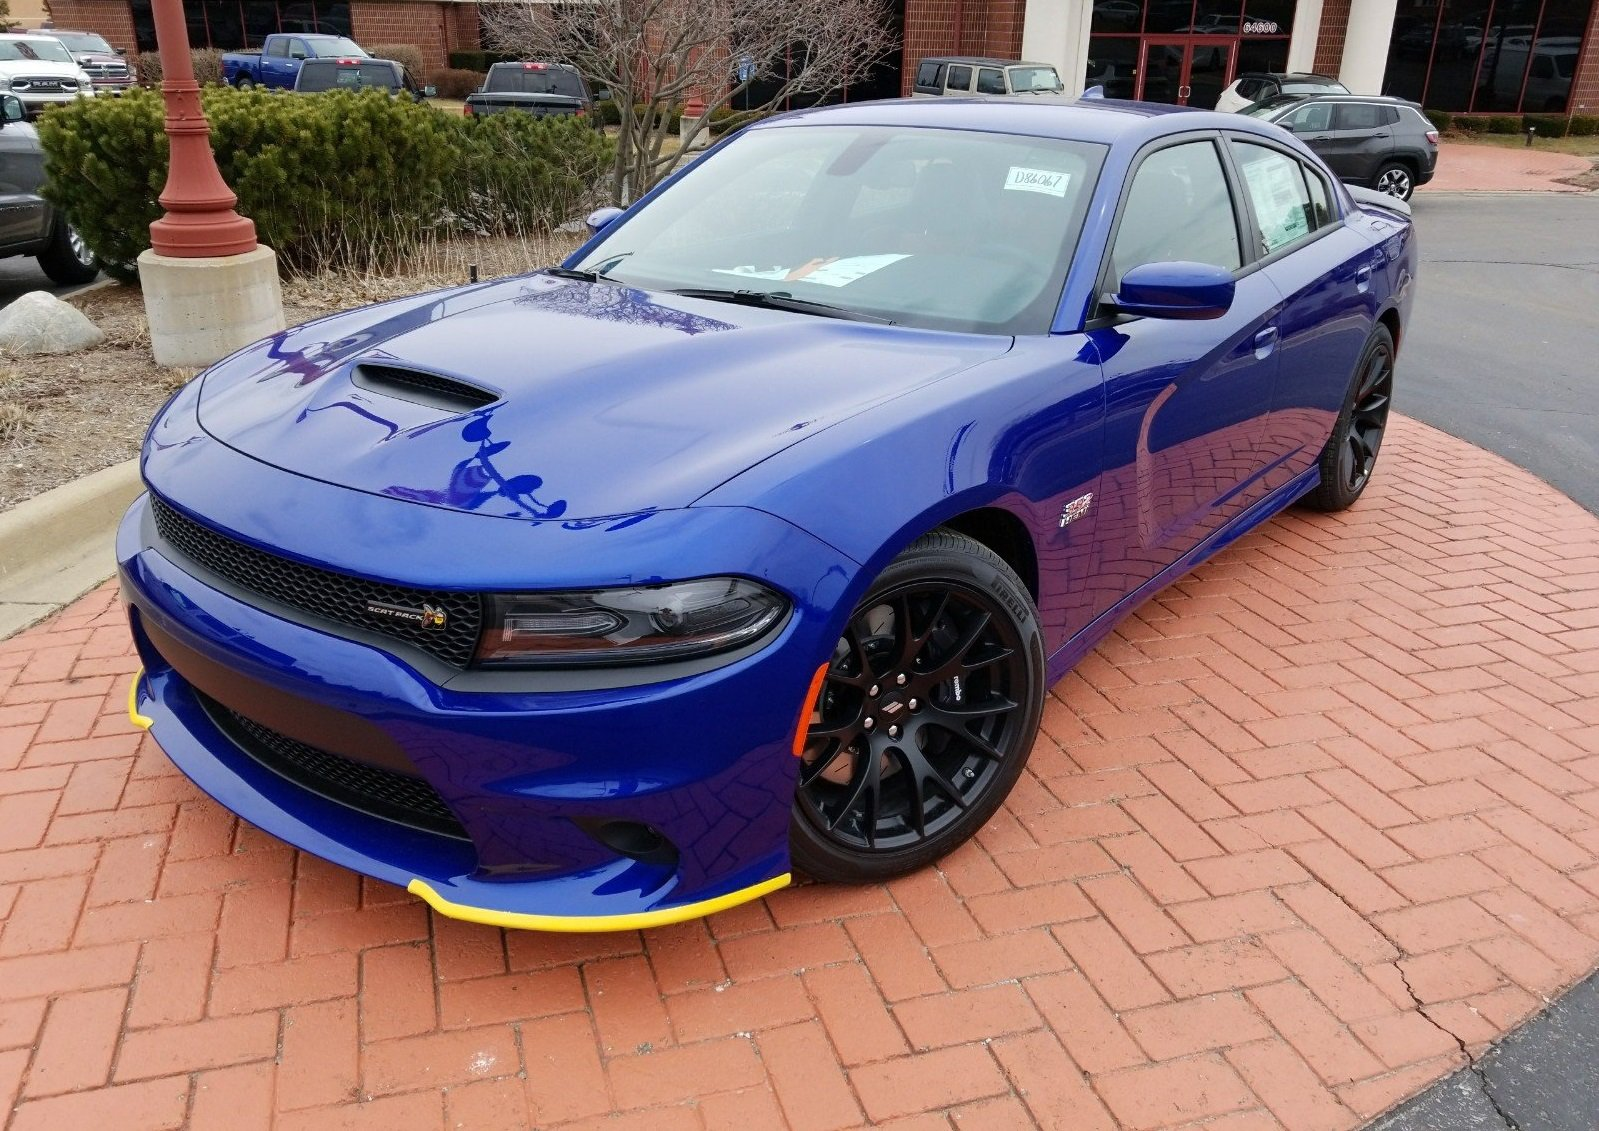car: (124, 99, 1425, 933), (1220, 81, 1447, 202), (217, 31, 400, 102), (907, 42, 1073, 118), (461, 48, 593, 133), (33, 24, 138, 94), (9, 32, 73, 108)
